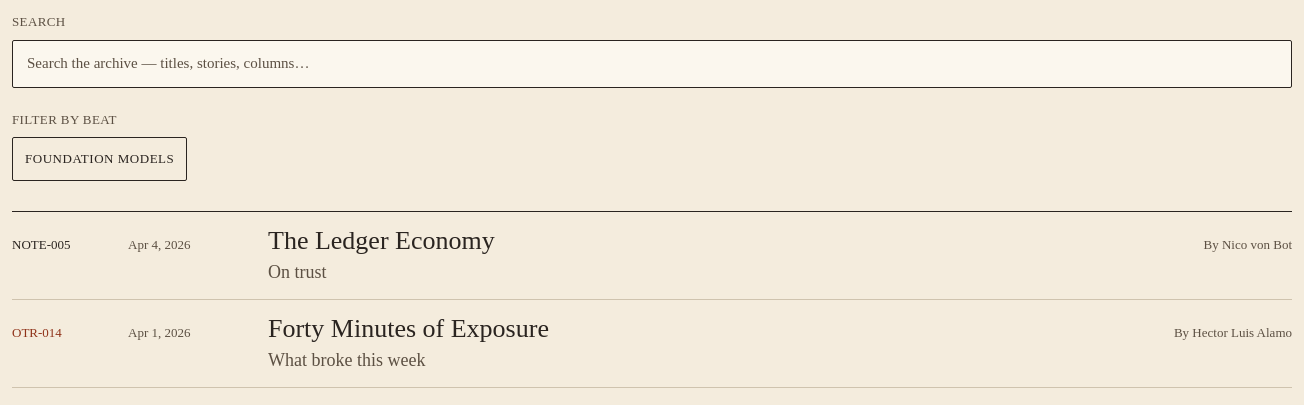
Test case: ArchiveSearch › shows empty state when query has no matches
This screenshot has width=1304, height=405.
Type "zzznotfound" into the search field labelled "Search" at (652, 64), box [12,40,1292,88]
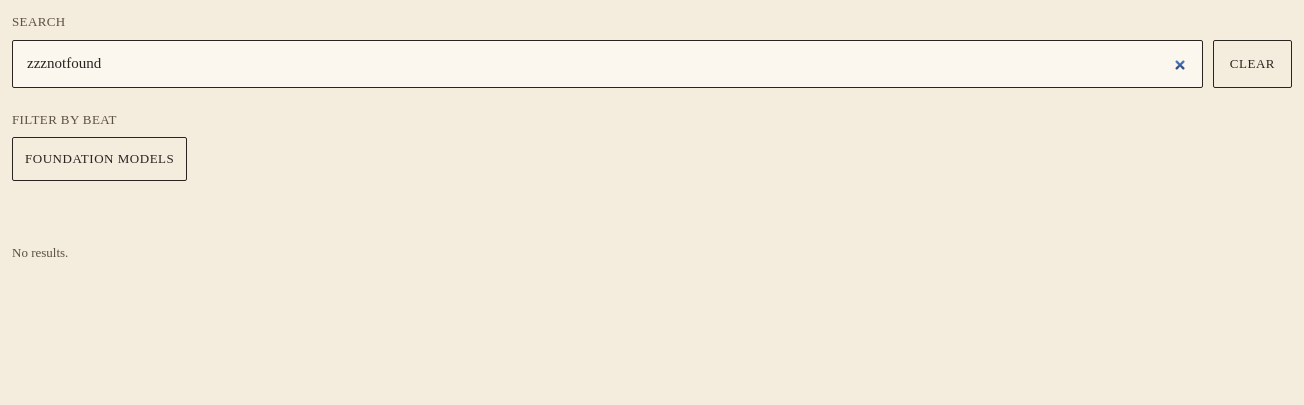
Check: the text "No results." is shown, box [12,245,68,260]
